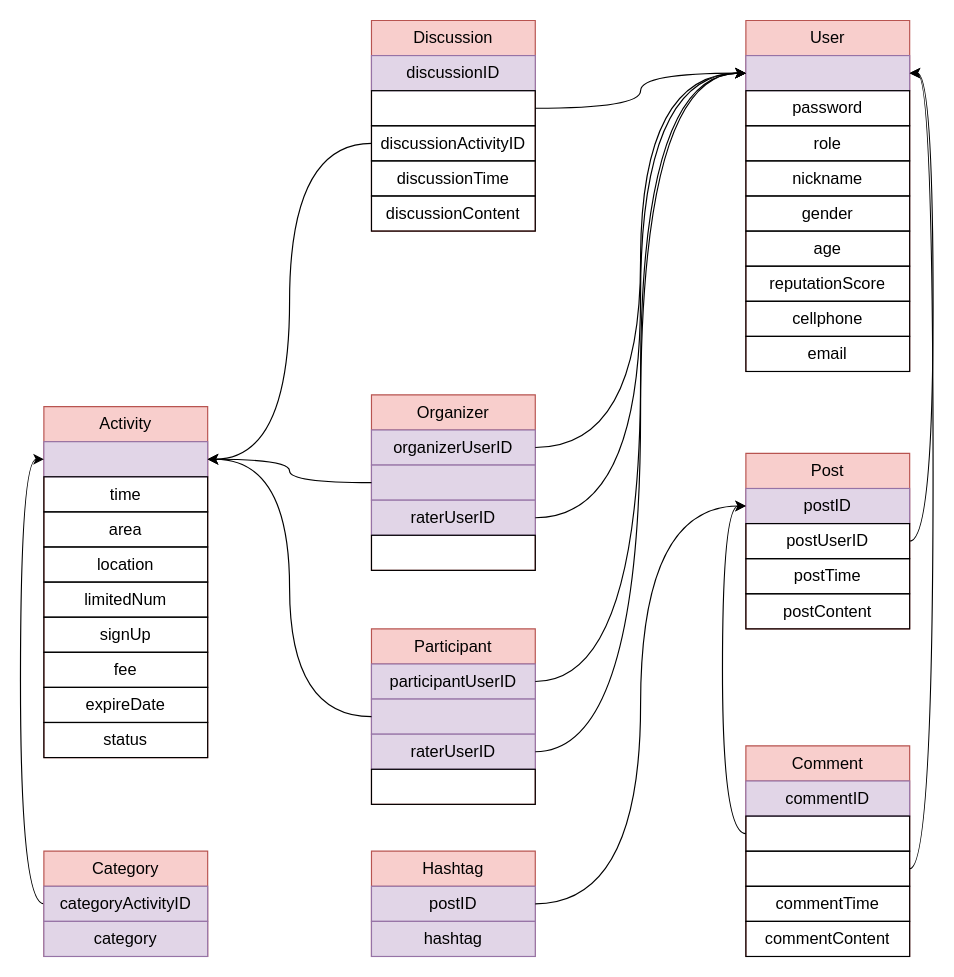
This 954x977 diagram has some shape labels left out. The centre of each missing label's shape, as x and y in pixels:
activityID: pixel 125 459
commentPostID: pixel 827 833
commentUserID: pixel 827 868
discussionUserID: pixel 452 108
organizerActivityID: pixel 452 482
organizerScore: pixel 452 552
participantActivityID: pixel 452 716
participantScore: pixel 452 786
userID: pixel 827 72
